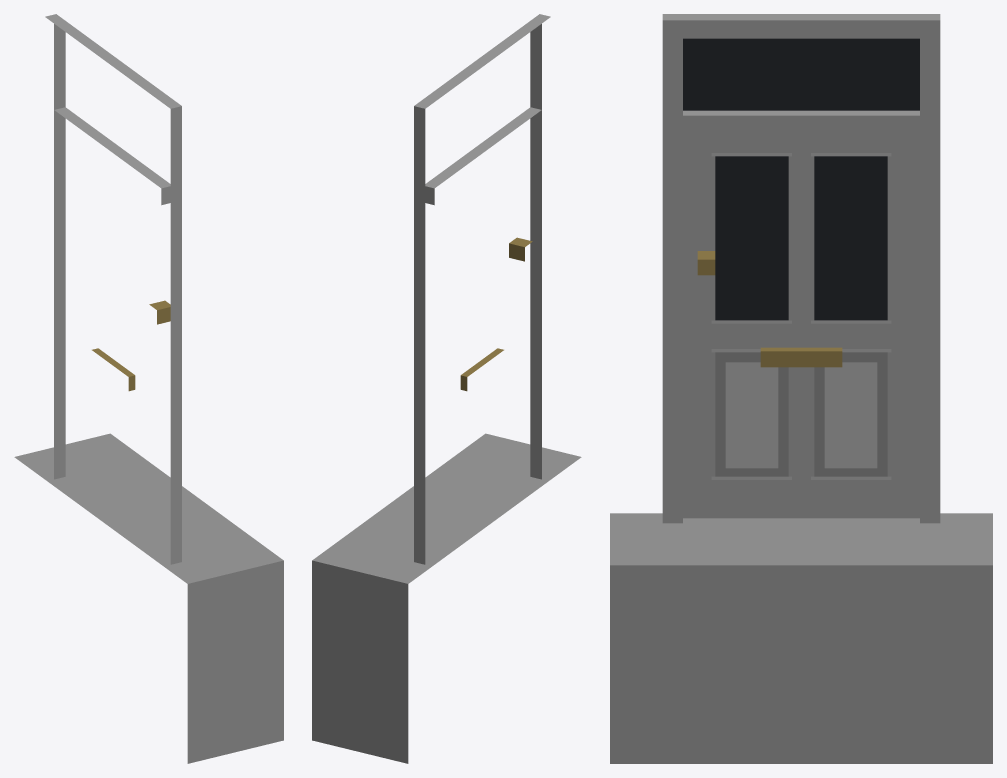
Rendered from SM_Prop_door_victorian_0.glb.
3 renders of one model, left to right at view 1: azimuth 30°, elevation 25°; view 2: azimuth 150°, elevation 25°; view 3: azimuth 270°, elevation 25°, orthographic. The views are drawn at different scales.
Parts seen in each view (by area): view 1: SM_Prop_door_victorian_0; view 2: SM_Prop_door_victorian_0; view 3: SM_Prop_door_victorian_0.
Boxes of the visible parts, x1,y1,x2,y2 form: SM_Prop_door_victorian_0: [14, 14, 283, 763]; SM_Prop_door_victorian_0: [312, 14, 581, 763]; SM_Prop_door_victorian_0: [610, 14, 992, 763].
Bounding box in the file's own units: 0.42 × 2.65 × 1.31.
